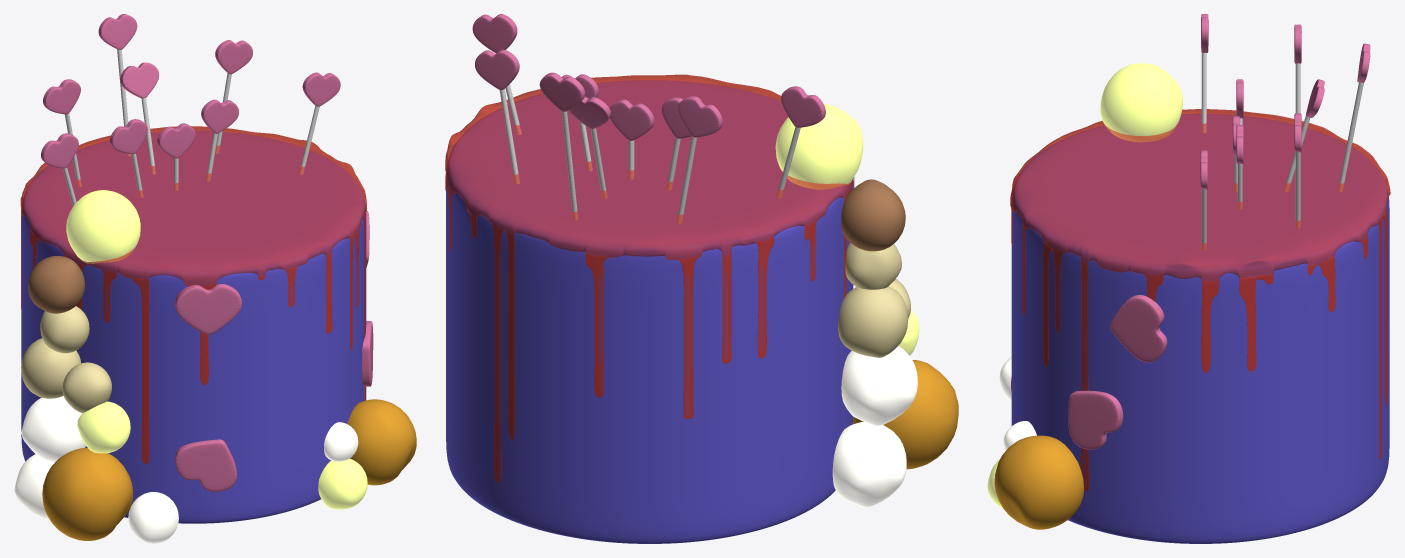
Rendered from Cake_Layer_1_Purple_Topper1_Hearts_RedDrip.glb.
The picture shows the model from 3 angles, left to right: view 1: azimuth 30°, elevation 25°; view 2: azimuth 150°, elevation 25°; view 3: azimuth 270°, elevation 25°; orthographic projection. The views are drawn at different scales.
Visible parts, largest first — view 1: Circle, Circle.001, Sphere, Sphere.015, Sphere.026, Sphere.002, Sphere.006, Star.003, Star.002, Sphere.005, Sphere.003, Sphere.001 (+15 smaller); view 2: Circle, Circle.001, Sphere.015, Sphere.013, Sphere.002, Sphere, Sphere.005, Sphere.006, Sphere.010, Star.006, Star.005, Star.009 (+6 smaller); view 3: Circle, Circle.001, Sphere.026, Sphere.015, Star.001, Star.004, Cylinder.049, Sphere.027.
Boxes of the visible parts, x1,y1,x2,y2 form: Circle: (21, 131, 366, 523); Circle.001: (20, 126, 366, 463); Sphere: (42, 448, 132, 540); Sphere.015: (66, 190, 140, 263); Sphere.026: (347, 399, 416, 485); Sphere.002: (21, 396, 85, 462); Sphere.006: (28, 256, 84, 313); Star.003: (175, 284, 241, 334); Star.002: (175, 439, 236, 491); Sphere.005: (21, 338, 80, 398); Sphere.003: (77, 401, 130, 453); Sphere.001: (128, 492, 178, 543); Circle: (446, 80, 853, 543); Circle.001: (445, 74, 854, 483); Sphere.015: (775, 104, 863, 189); Sphere.013: (832, 421, 906, 507); Sphere.002: (841, 346, 917, 426); Sphere: (853, 360, 958, 469); Sphere.005: (838, 286, 908, 357); Sphere.006: (841, 179, 905, 251); Sphere.010: (845, 242, 901, 289); Star.006: (678, 96, 722, 137); Star.005: (781, 86, 825, 127); Star.009: (475, 49, 519, 90); Circle: (1011, 114, 1389, 543); Circle.001: (1010, 109, 1390, 490); Sphere.026: (994, 435, 1083, 529); Sphere.015: (1100, 63, 1182, 141); Star.001: (1110, 295, 1167, 362); Star.004: (1068, 390, 1123, 449); Cylinder.049: (1338, 82, 1363, 191); Sphere.027: (1003, 421, 1036, 450).
Bounding box in the file's own units: 0.1763 × 0.1867 × 0.159.
